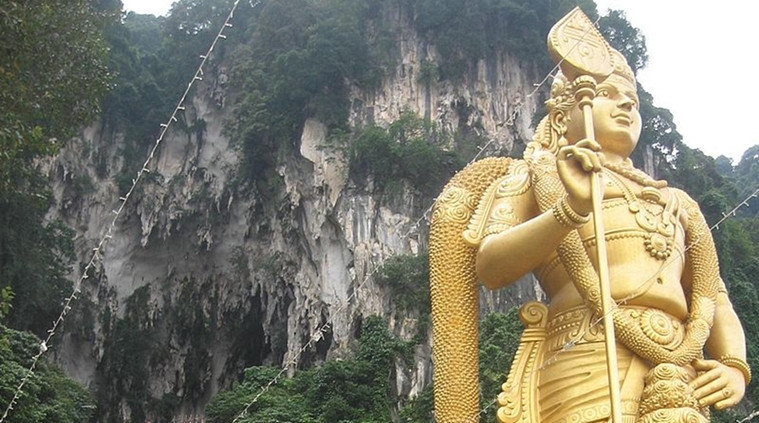Hindu Temple: (403, 9, 733, 415)
